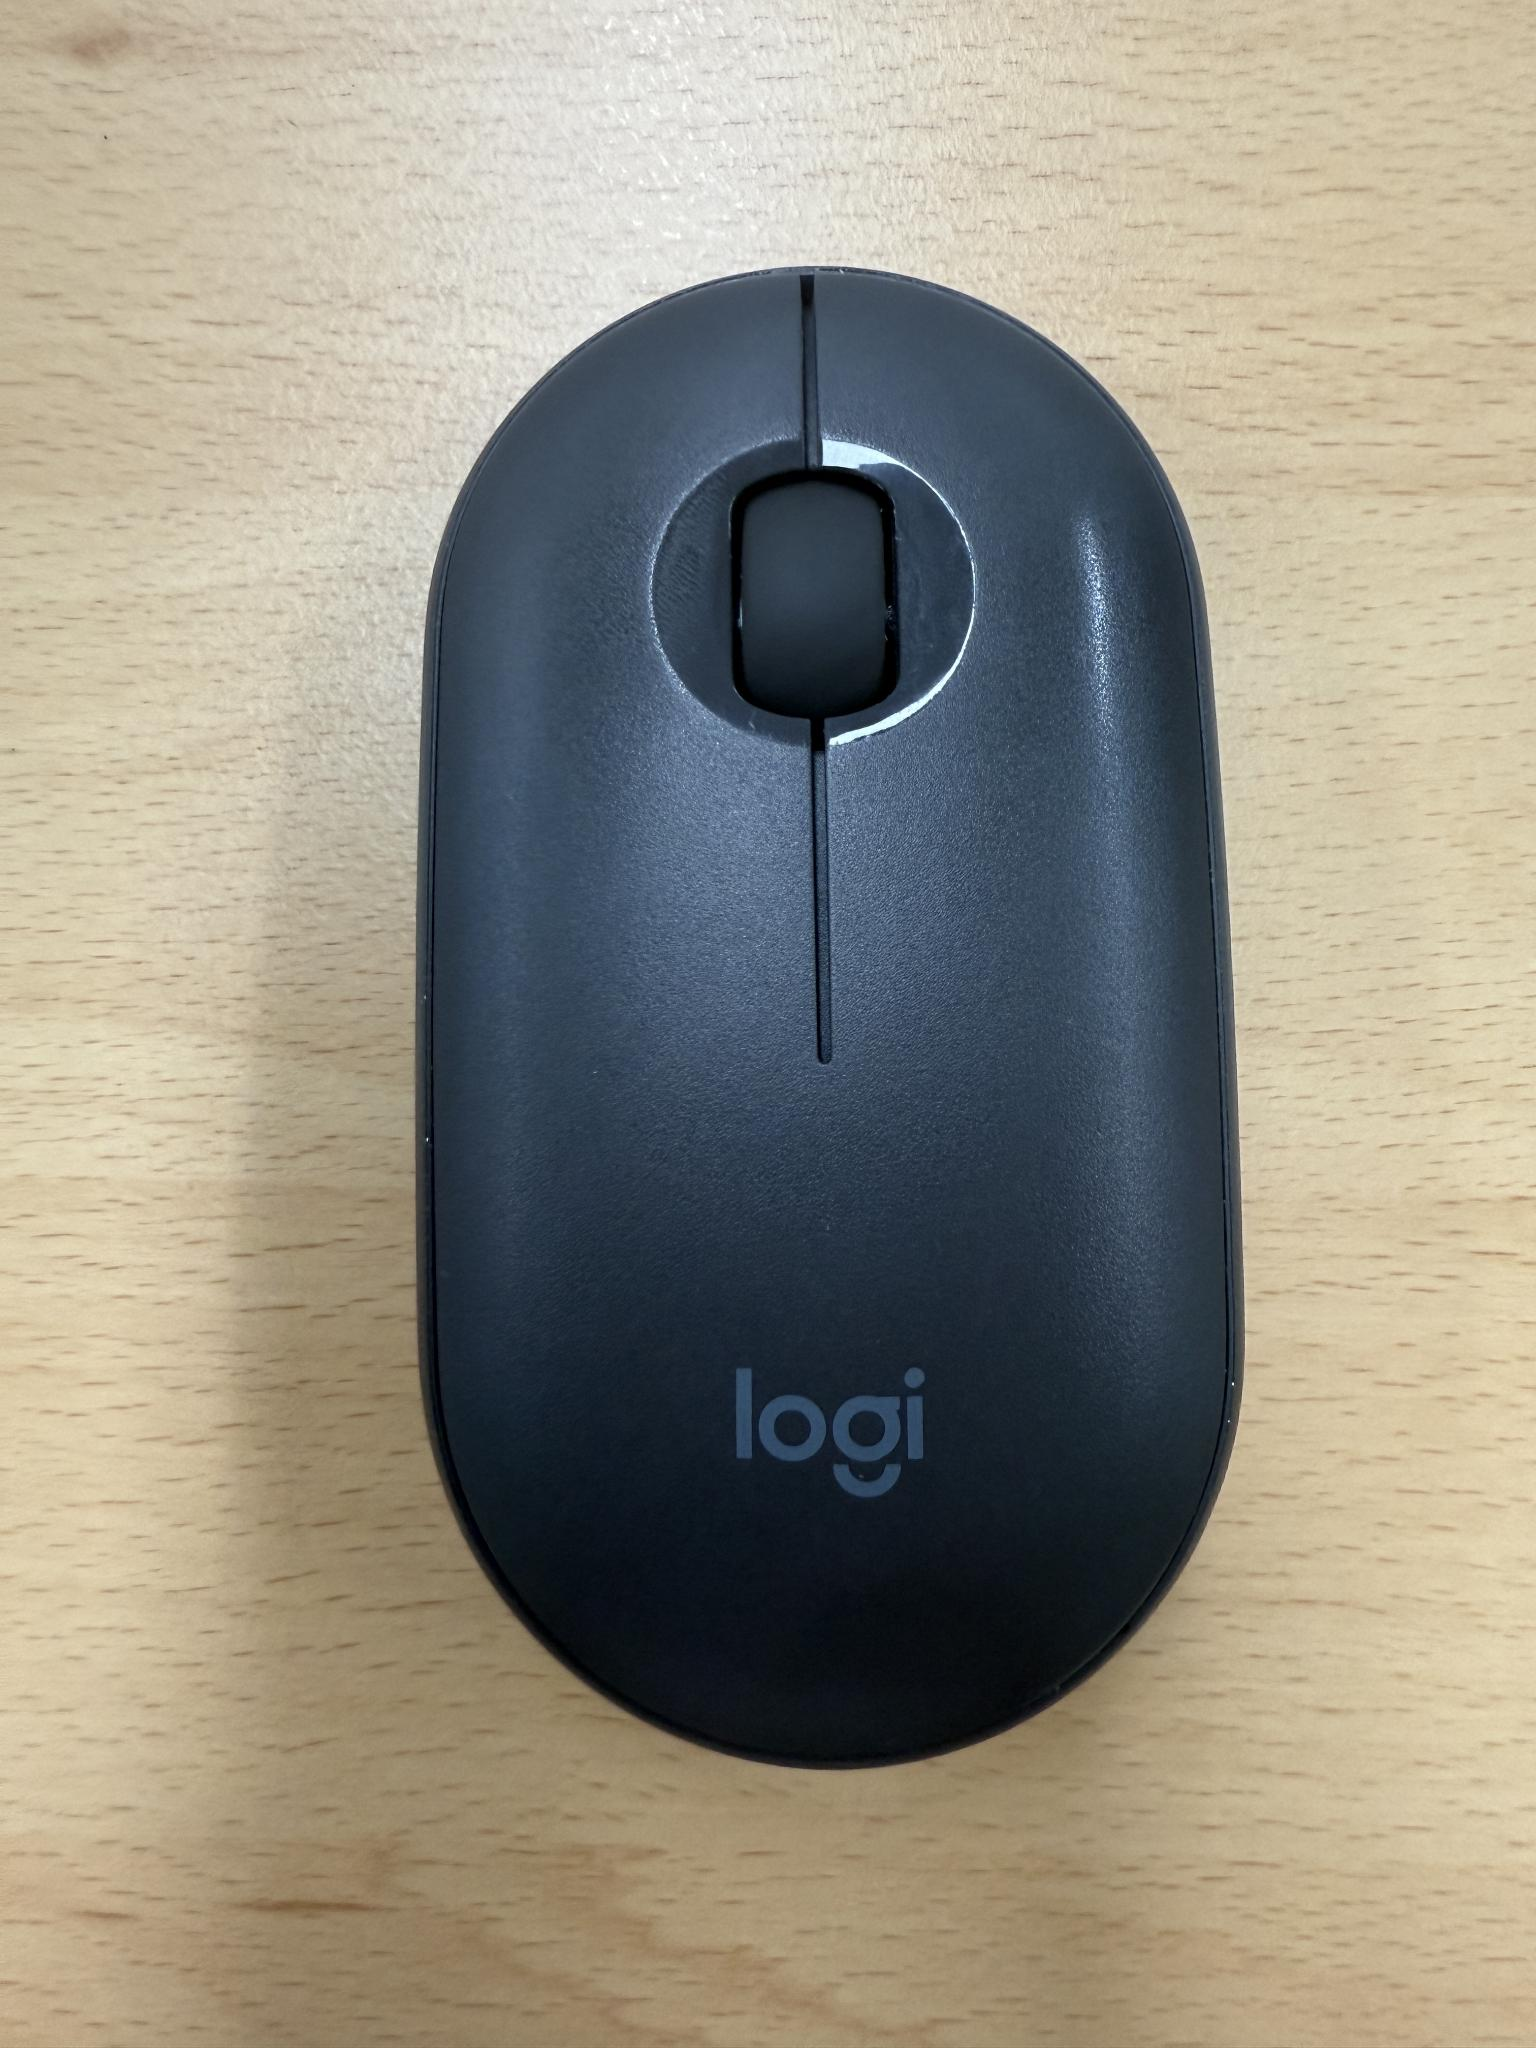front: (402, 261, 1244, 1784)
